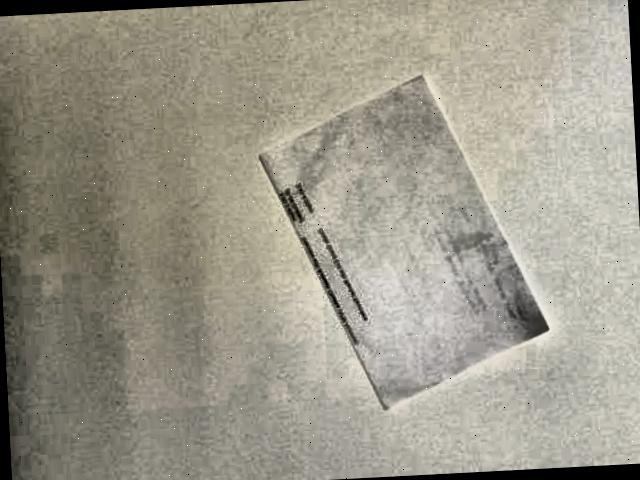Paper: (240, 61, 560, 418)
